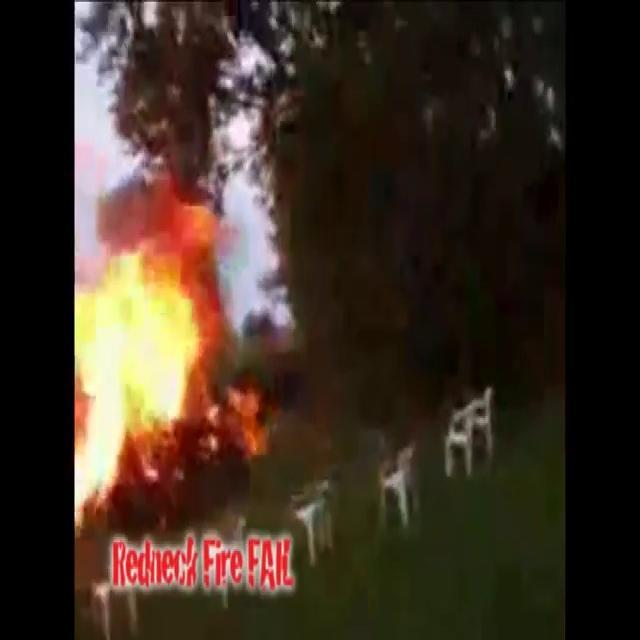Fire: (75, 197, 259, 512)
